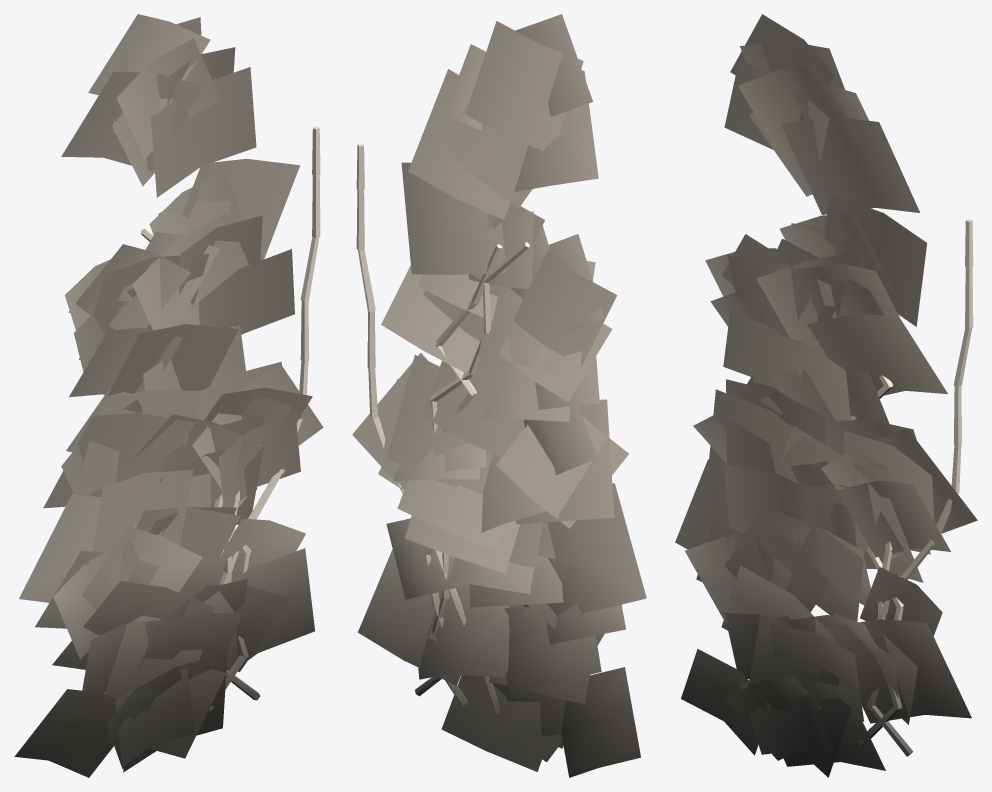
Rendered from SM_VK_Deco_Ivy_B.fbx.
The picture shows the model from 3 angles, left to right: view 1: azimuth 30°, elevation 25°; view 2: azimuth 150°, elevation 25°; view 3: azimuth 330°, elevation 25°; orthographic projection. The views are drawn at different scales.
Parts seen in each view (by area): view 1: SM_VK_Deco_Ivy_B.001; view 2: SM_VK_Deco_Ivy_B.001; view 3: SM_VK_Deco_Ivy_B.001.
Part boxes in pixels (bbox=[...]): SM_VK_Deco_Ivy_B.001: bbox=[14, 14, 323, 777]; SM_VK_Deco_Ivy_B.001: bbox=[352, 14, 646, 777]; SM_VK_Deco_Ivy_B.001: bbox=[675, 14, 977, 777].
Bounding box in the file's own units: 1.75 × 4.23 × 0.3842.
